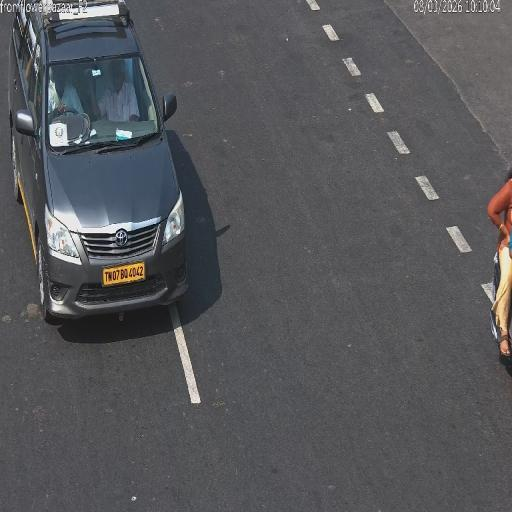person_with_seatbelt: (47, 80, 64, 115)
person_without_seatbelt: (106, 90, 137, 120)
